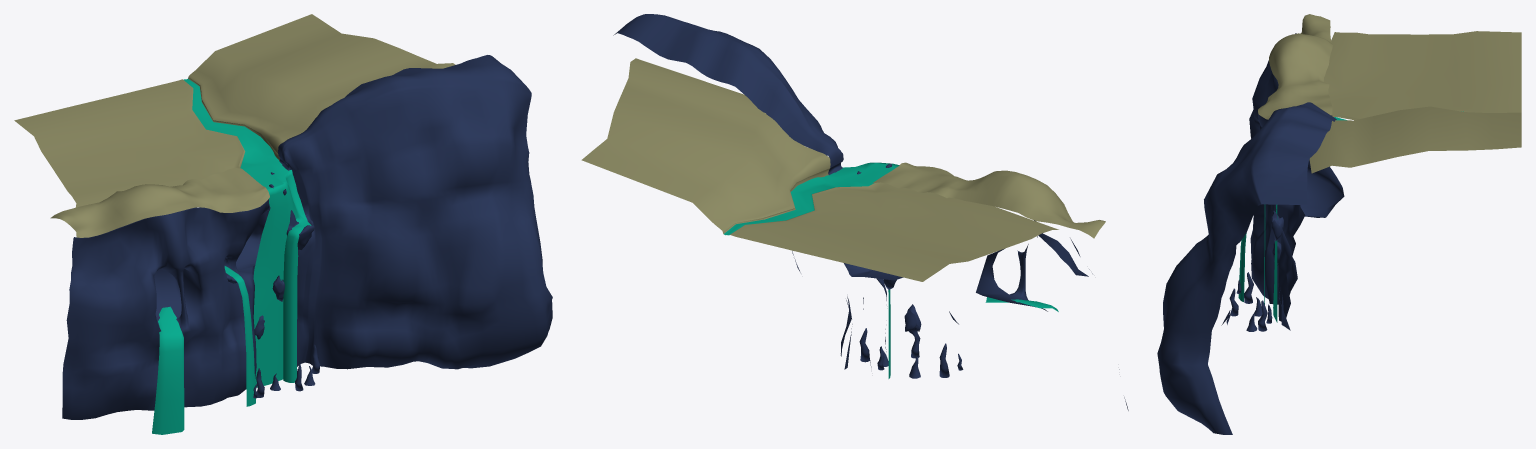
The model's file is WaterfallglTF.glb.
The picture shows the model from 3 angles, left to right: view 1: azimuth 30°, elevation 25°; view 2: azimuth 150°, elevation 25°; view 3: azimuth 270°, elevation 25°; orthographic projection. The views are drawn at different scales.
Bounding box in the file's own units: 1734 × 993 × 1155.
